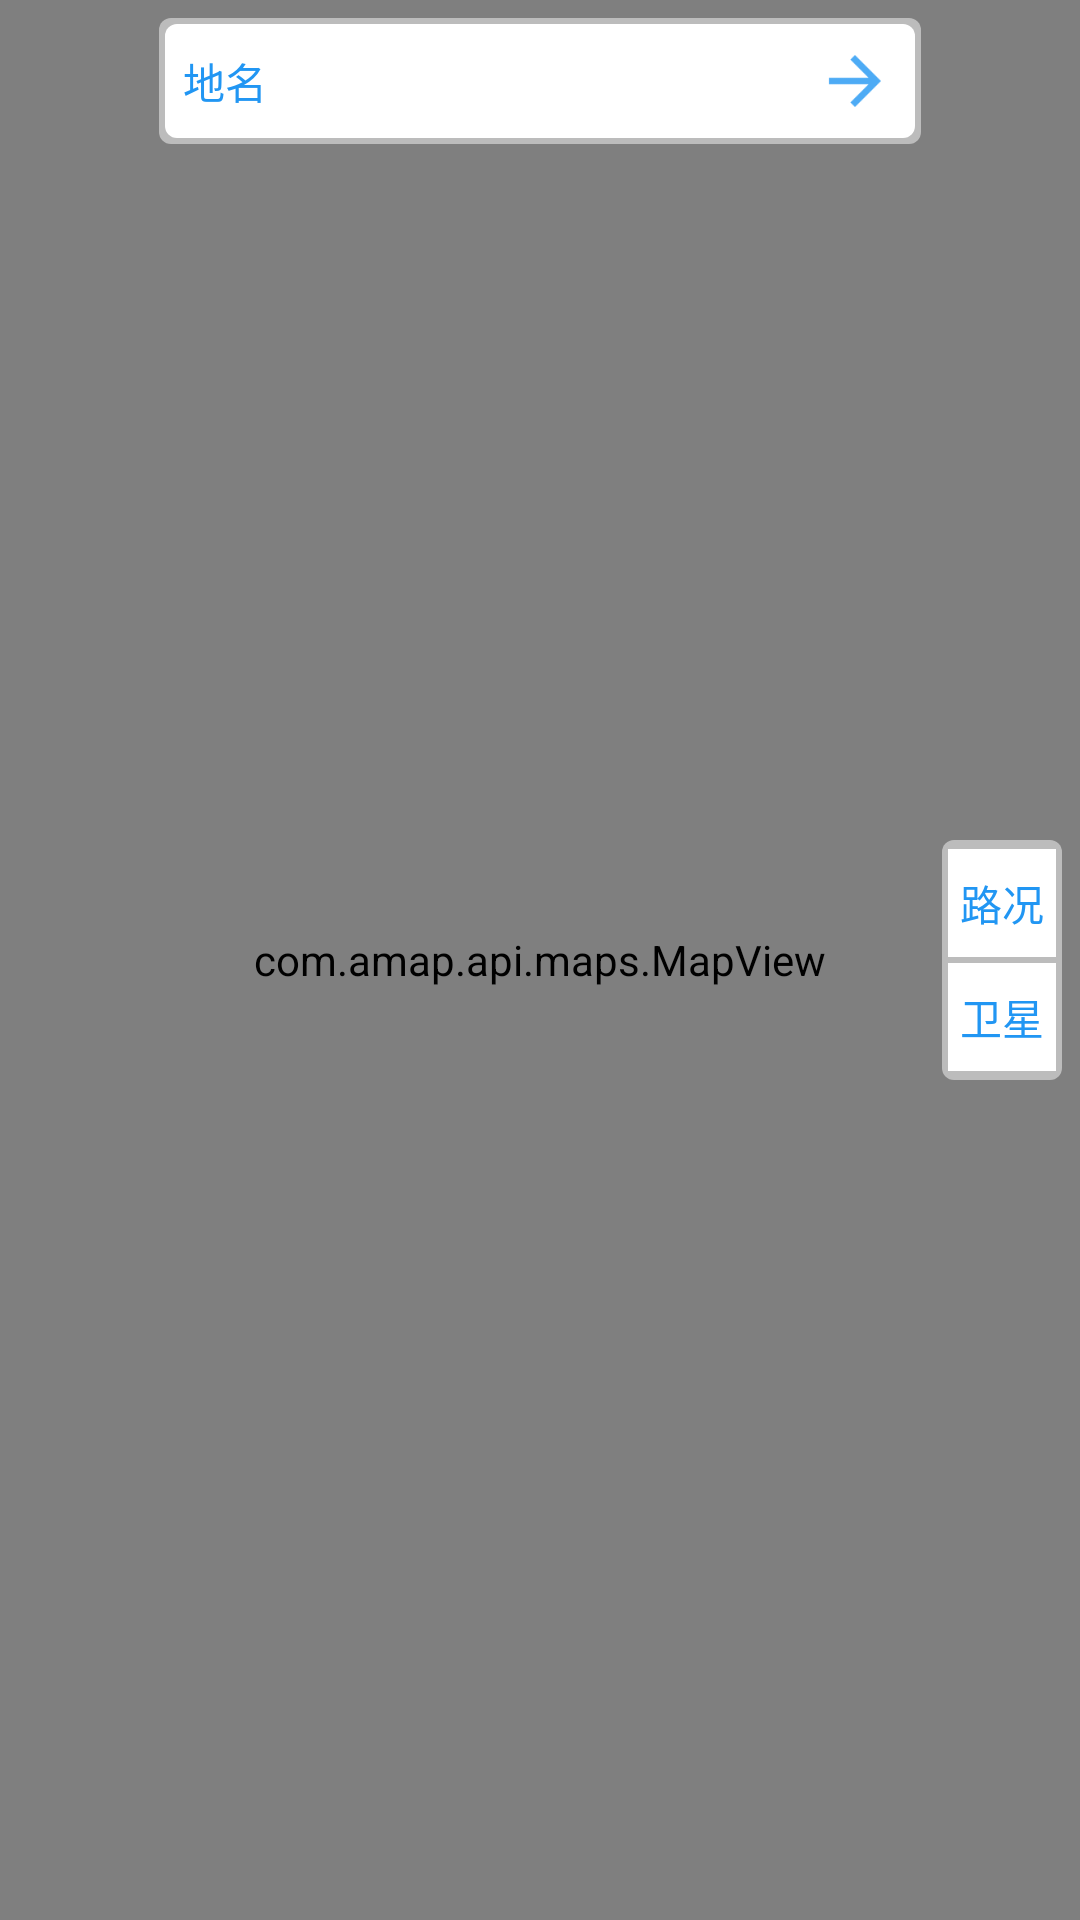

Icon bounding boxes for this 1080w x 1920h phone screenshot, format (x1, y1, x2, y2):
next: (829, 55, 881, 107)
